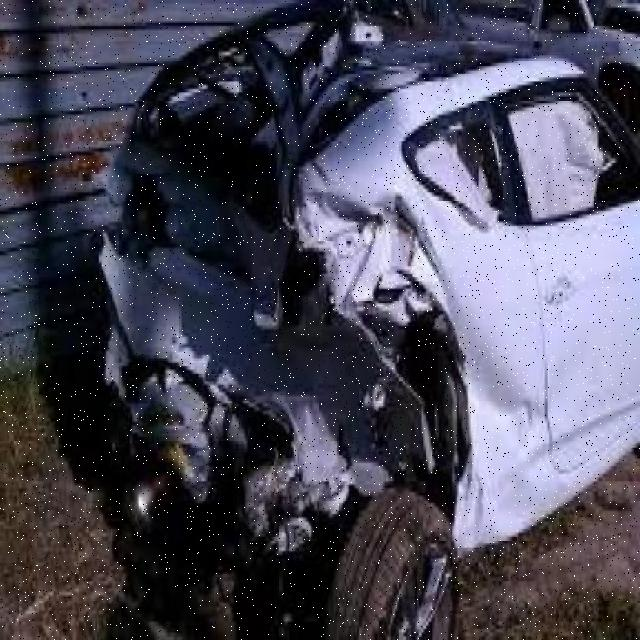damage: (98, 64, 523, 552)
